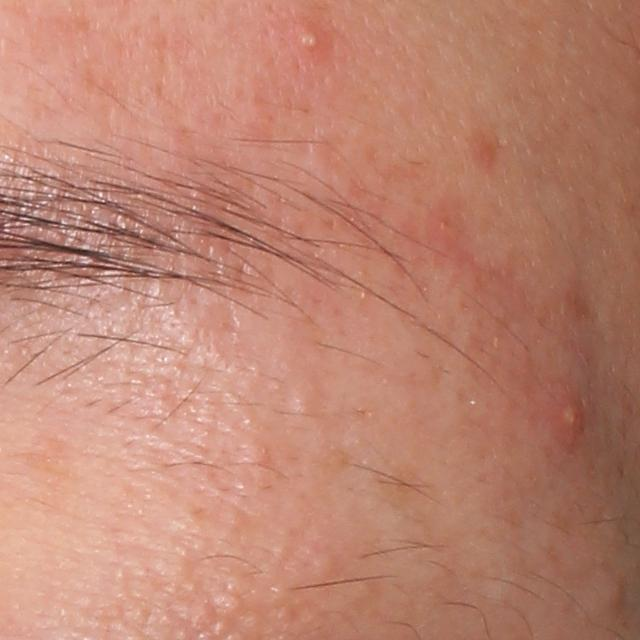comedo: (595, 577, 631, 615)
melasma: (377, 460, 440, 519)
other: (203, 590, 244, 618), (238, 609, 265, 638), (211, 617, 234, 640)
pustule: (283, 17, 330, 59), (548, 393, 584, 440)
